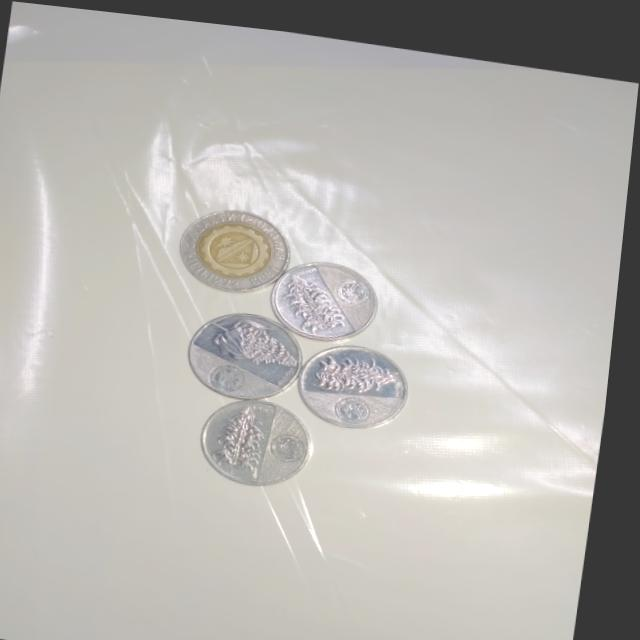10_New_Back: (202, 297, 314, 366)
10_Old_Back: (173, 194, 300, 294)
5_New_Back: (213, 391, 284, 474), (311, 338, 411, 395)
